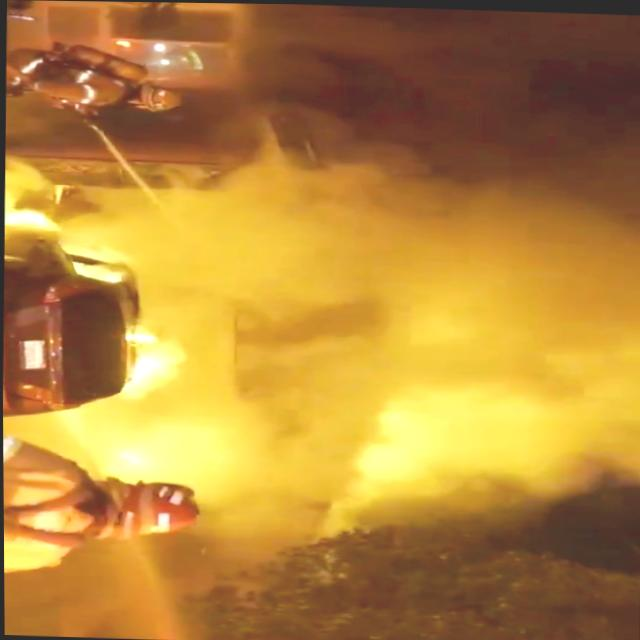fire: (102, 295, 209, 422), (3, 188, 62, 225)
smoke: (248, 44, 640, 539)
